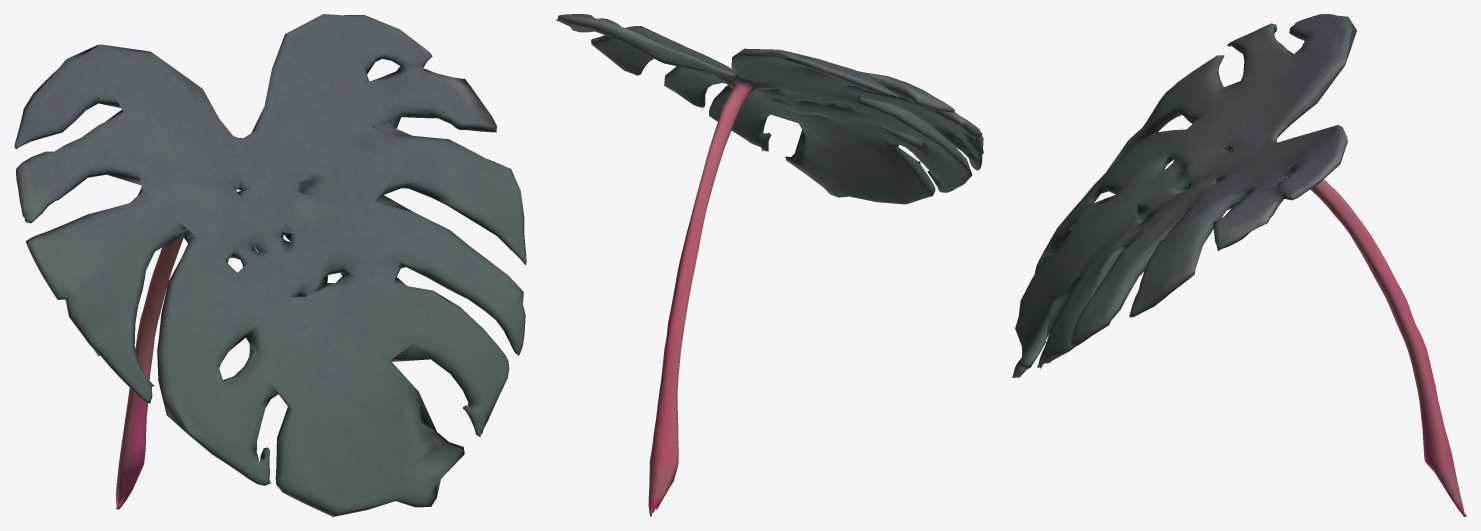
The model's file is mon_charcoal_v1.glb.
The picture shows the model from 3 angles, left to right: view 1: azimuth 30°, elevation 25°; view 2: azimuth 150°, elevation 25°; view 3: azimuth 270°, elevation 25°; orthographic projection. The views are drawn at different scales.
Visible parts, largest first — view 1: world; view 2: world; view 3: world.
Boxes of the visible parts, x1=… form: world: x1=14, y1=14, x2=526, y2=516; world: x1=555, y1=14, x2=983, y2=516; world: x1=1012, y1=14, x2=1466, y2=516.
Size of the model in its own units: 1.84 by 2 by 1.81.
Materials: 1 (1 with a texture image).
